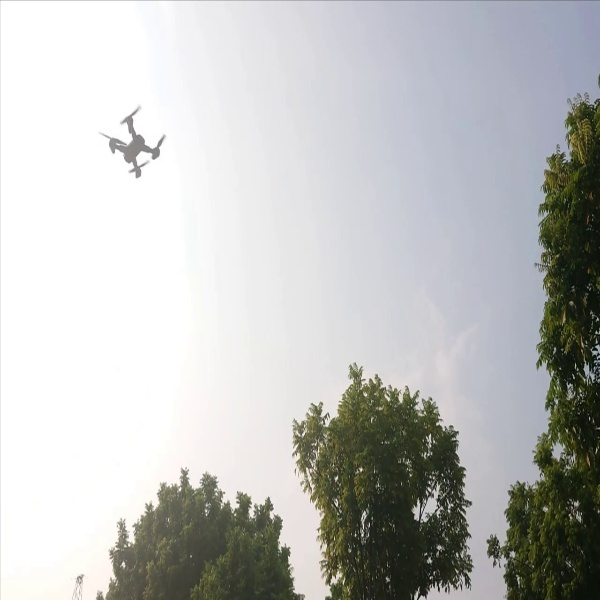drone: (94, 104, 171, 180)
